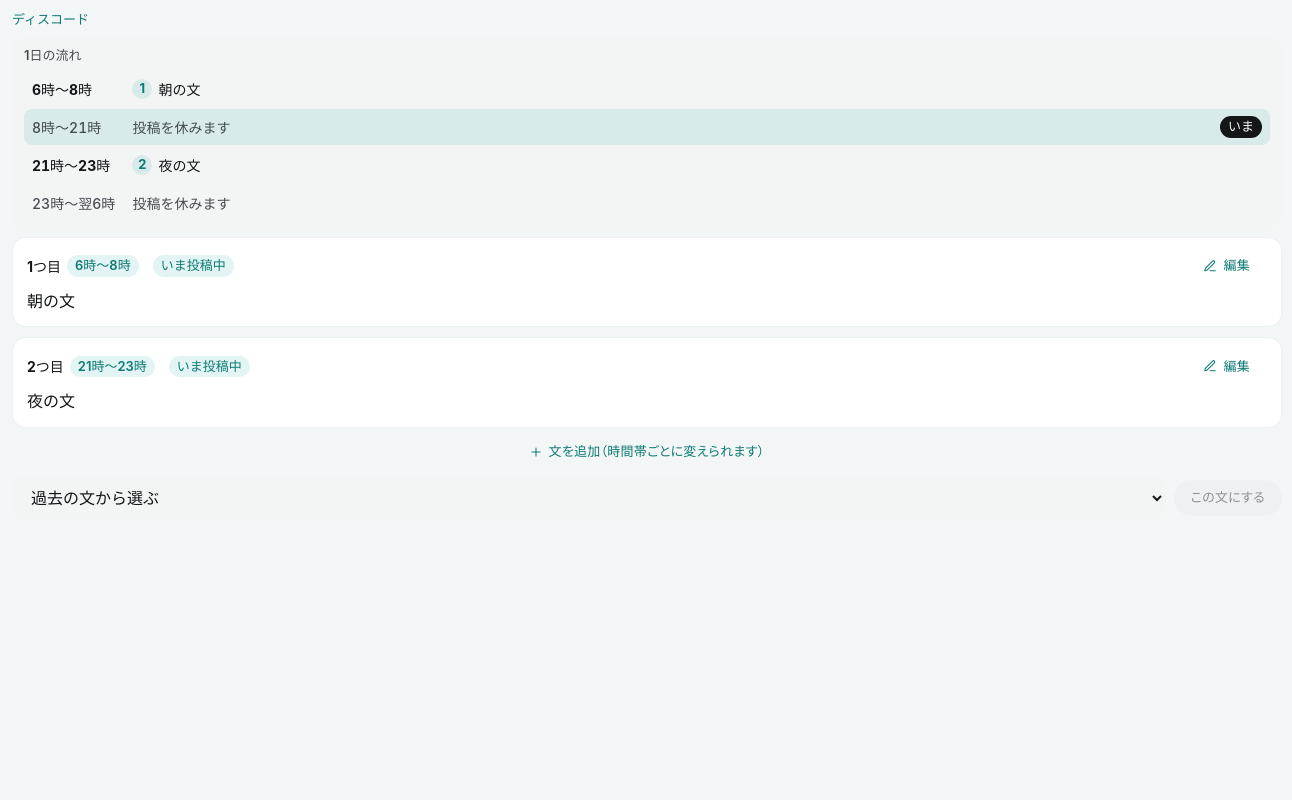
Test: ChannelTextRow（トップの一番上の、いま投稿されている文） › 文を足す・外す（時間帯ごとに文を変えるため） › 文が複数あるとき、編集の中から「この文を外す」で外せる。ほかの文と時間帯はそのまま
The width and height of the screenshot is (1292, 800).
Click the button with aria-label "ディスコードの1つ目の文を編集".
click(1227, 266)  # box [1188,248,1267,284]
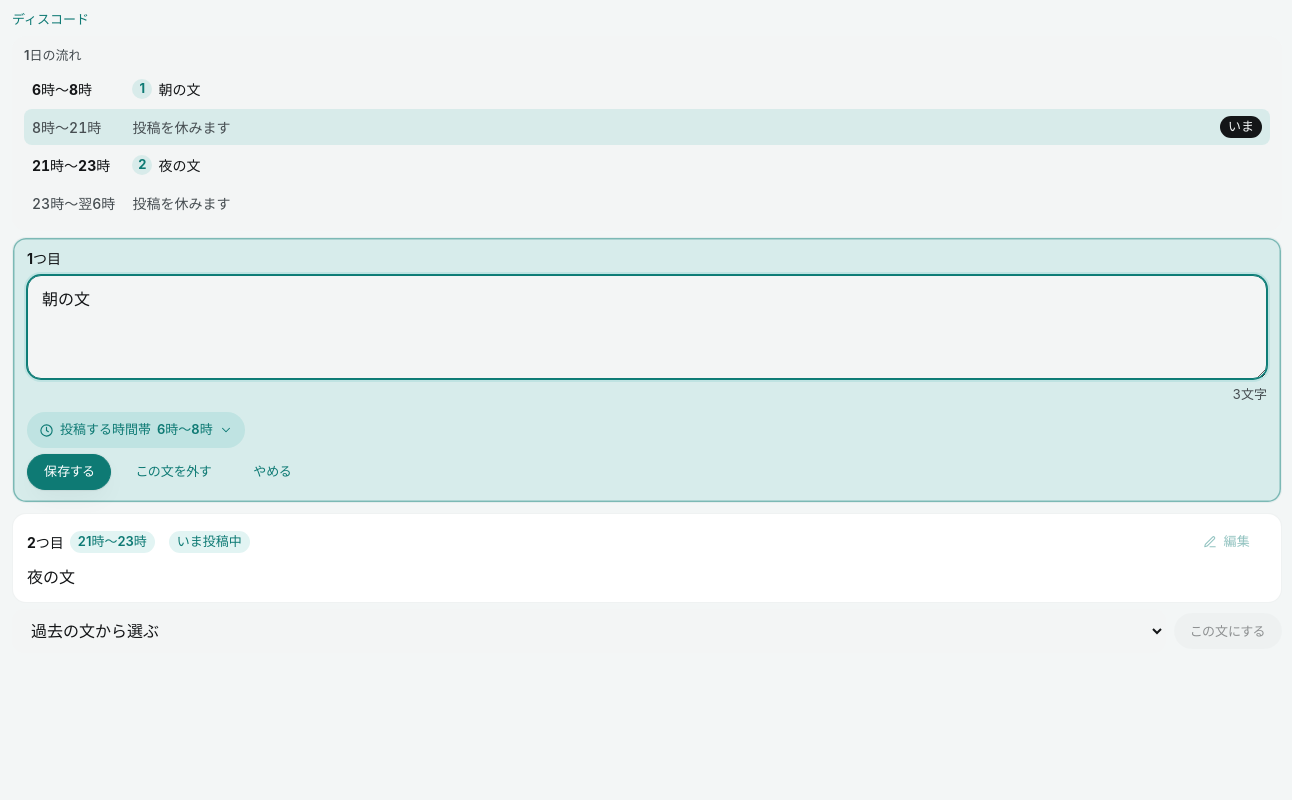
Click the button "この文を外す".
click(174, 472)  # box [120,454,229,490]
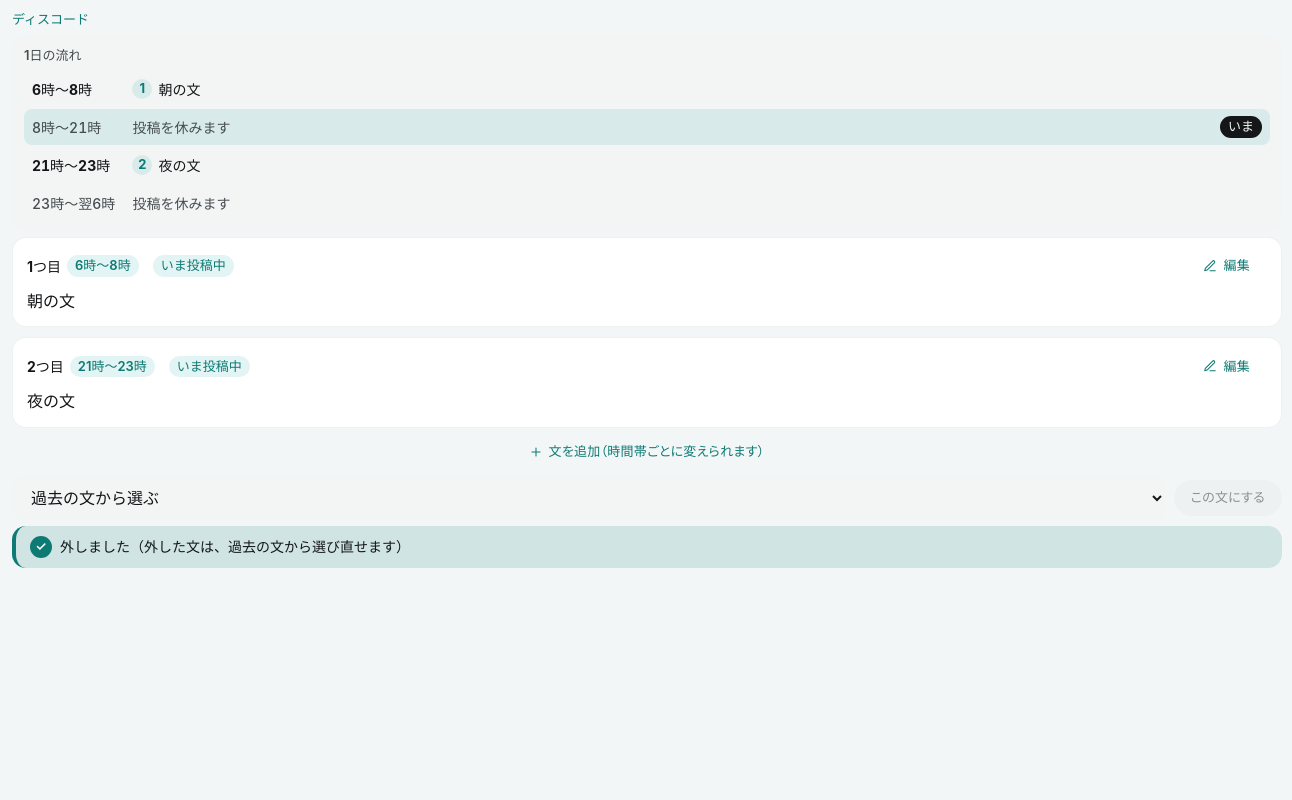
Expected: the text "外しました（外した文は、過去の文から選び直せます）" is shown, [12,526,1282,568]
